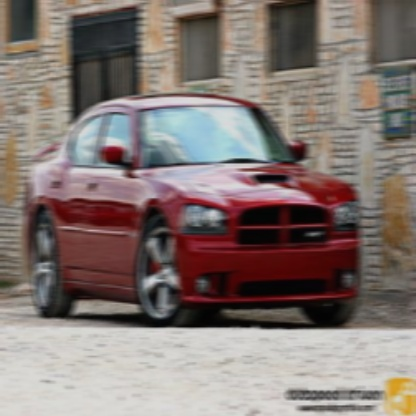Vehicle: (21, 88, 370, 332)
